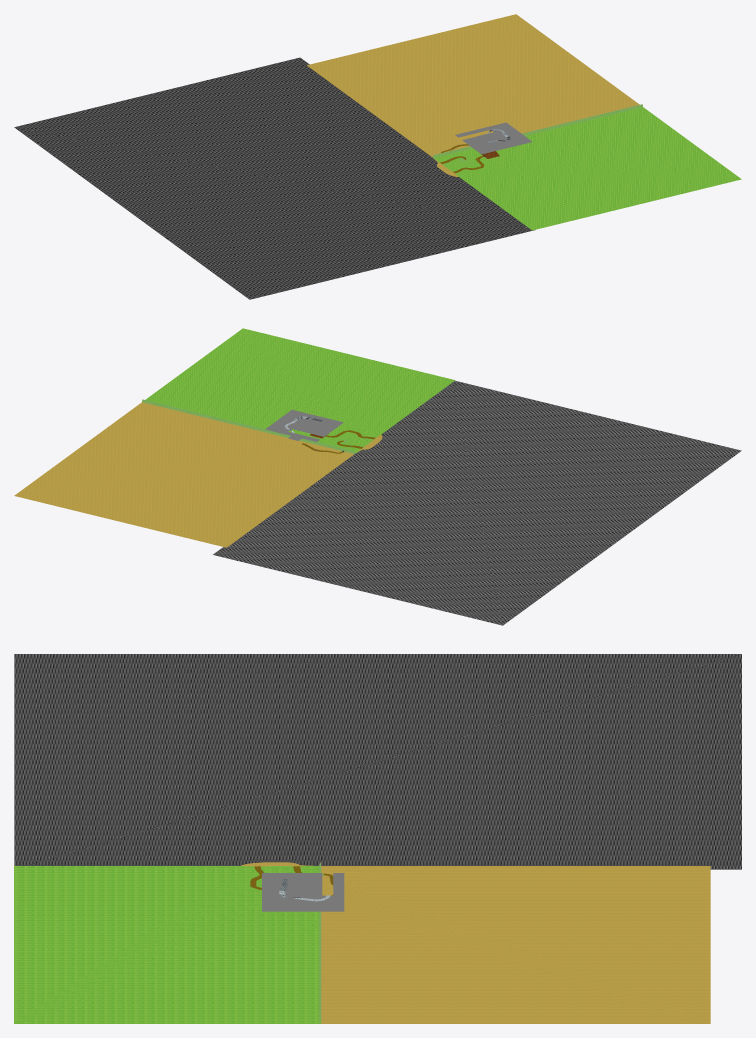
3 renders of one model, top to bottom at view 1: azimuth 30°, elevation 25°; view 2: azimuth 150°, elevation 25°; view 3: azimuth 270°, elevation 25°, orthographic. The views are drawn at different scales.
Visible parts, largest first — view 1: polygon374.001, polygon920.001, polygon412.001, polygon889.001, polygon2.019; view 2: polygon374.001, polygon920.001, polygon412.001, polygon889.001, polygon2.019; view 3: polygon374.001, polygon920.001, polygon412.001, polygon889.001.
Part boxes in pixels (x1,y1,x2,y2): polygon374.001: [14, 57, 534, 299]; polygon920.001: [307, 14, 639, 157]; polygon412.001: [434, 107, 741, 230]; polygon889.001: [455, 122, 532, 154]; polygon2.019: [432, 104, 642, 169]; polygon374.001: [213, 380, 741, 625]; polygon920.001: [14, 402, 354, 547]; polygon412.001: [145, 328, 455, 453]; polygon889.001: [265, 410, 343, 441]; polygon2.019: [142, 399, 370, 453]; polygon374.001: [14, 654, 741, 869]; polygon920.001: [321, 866, 710, 1023]; polygon412.001: [14, 866, 321, 1023]; polygon889.001: [262, 873, 344, 911].
Size of the model in its own units: 735140 by 23604 by 610203.
15 materials, 15 textured.
